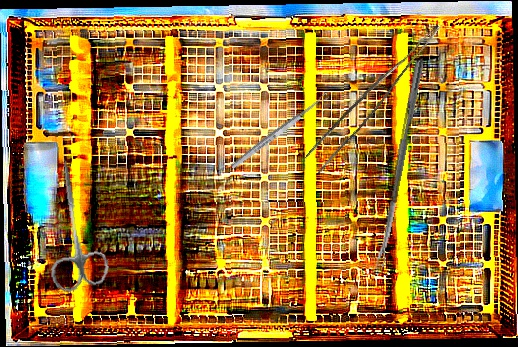Iris Scissors: (33, 153, 112, 295)
Surgical Spoon: (374, 58, 425, 267), (229, 91, 331, 171)
Tissue Forceps: (302, 10, 441, 178)
